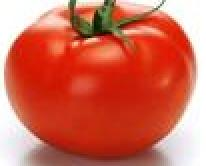tomato: (6, 4, 196, 155)
